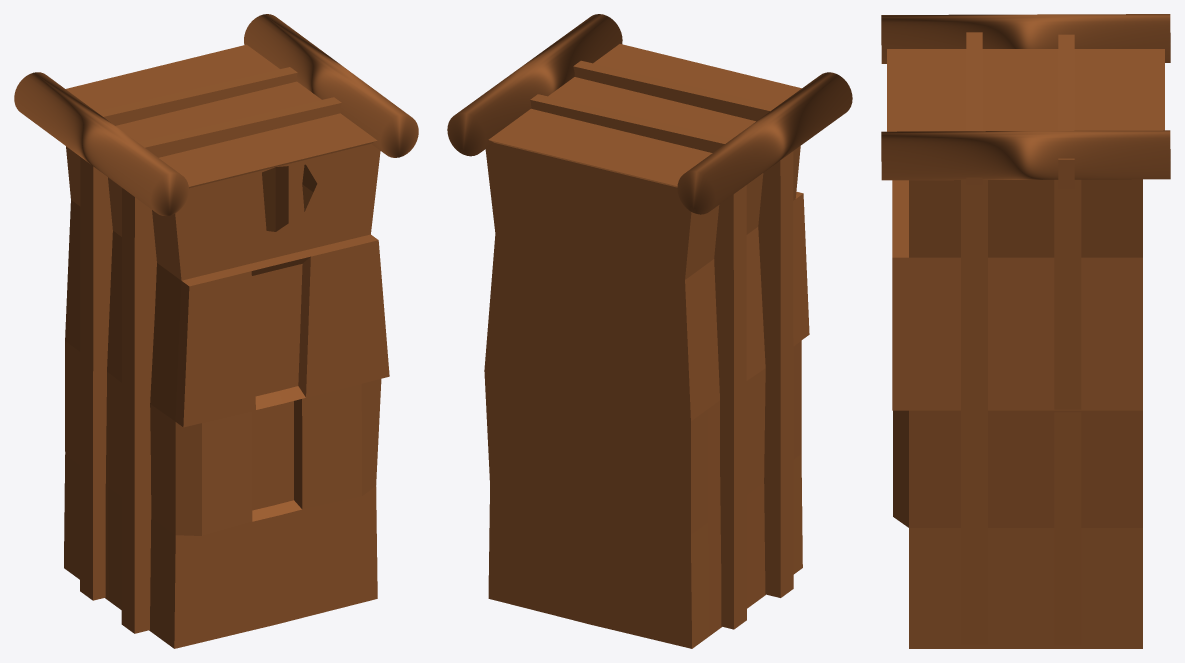
File: batuganan.fbx
The picture shows the model from 3 angles, left to right: view 1: azimuth 30°, elevation 25°; view 2: azimuth 150°, elevation 25°; view 3: azimuth 270°, elevation 25°; orthographic projection. The views are drawn at different scales.
Parts seen in each view (by area): view 1: cage; view 2: cage; view 3: cage.
Boxes of the visible parts, x1,y1,x2,y2 form: cage: [14, 14, 418, 648]; cage: [447, 14, 852, 648]; cage: [881, 14, 1170, 648].
Bounding box in the file's own units: 11.17 × 19.53 × 9.8.
